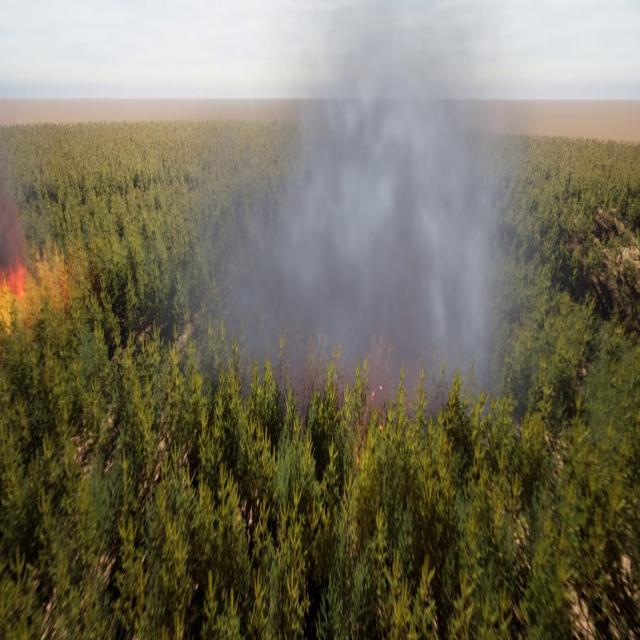fire: (3, 260, 29, 298)
smoke: (184, 0, 521, 410), (0, 180, 29, 302)
